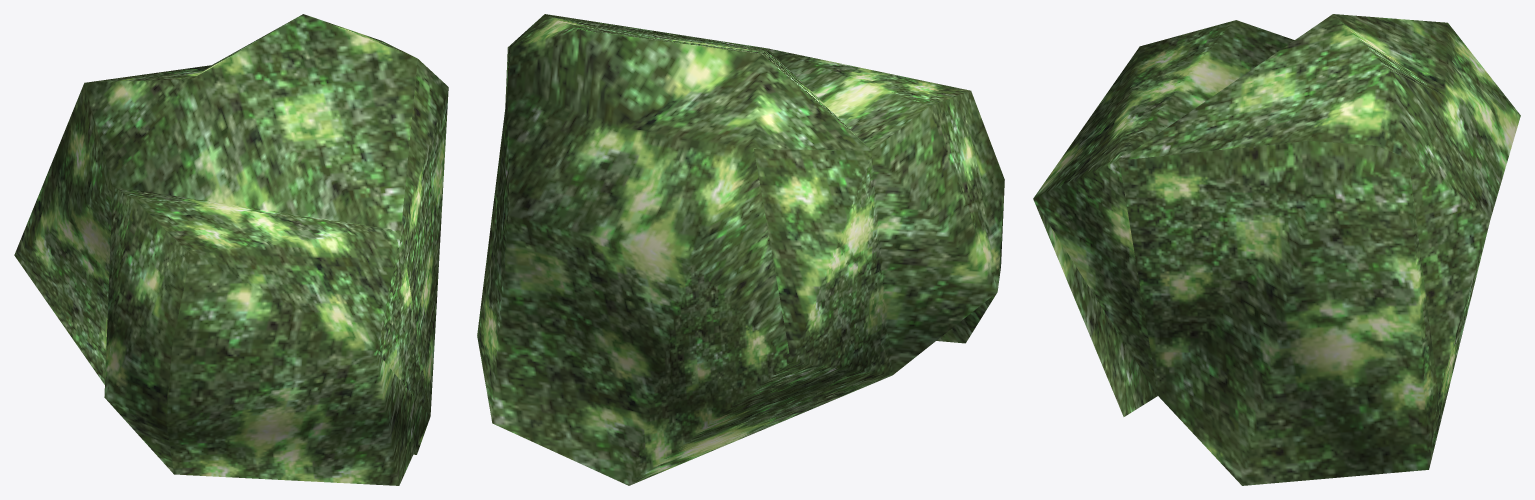
File: asteroid_acid_small_s02_l3.fbx
3 views of the same model, side by side, from view 1: azimuth 30°, elevation 25°; view 2: azimuth 150°, elevation 25°; view 3: azimuth 270°, elevation 25° (orthographic). The views are drawn at different scales.
Visible parts, largest first — view 1: mesh_node; view 2: mesh_node; view 3: mesh_node.
Part boxes in pixels (left/top/right/bottom): mesh_node: left=14, top=14, right=448, bottom=485; mesh_node: left=477, top=14, right=1004, bottom=485; mesh_node: left=1033, top=14, right=1520, bottom=485.
Bounding box in the file's own units: 23.75 × 23.54 × 25.12.
Materials: 1 (1 with a texture image).
